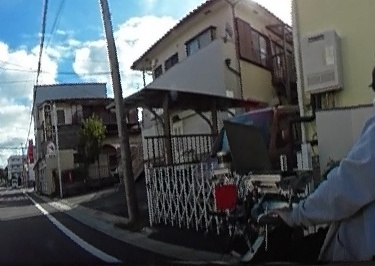person: (279, 49, 375, 266)
